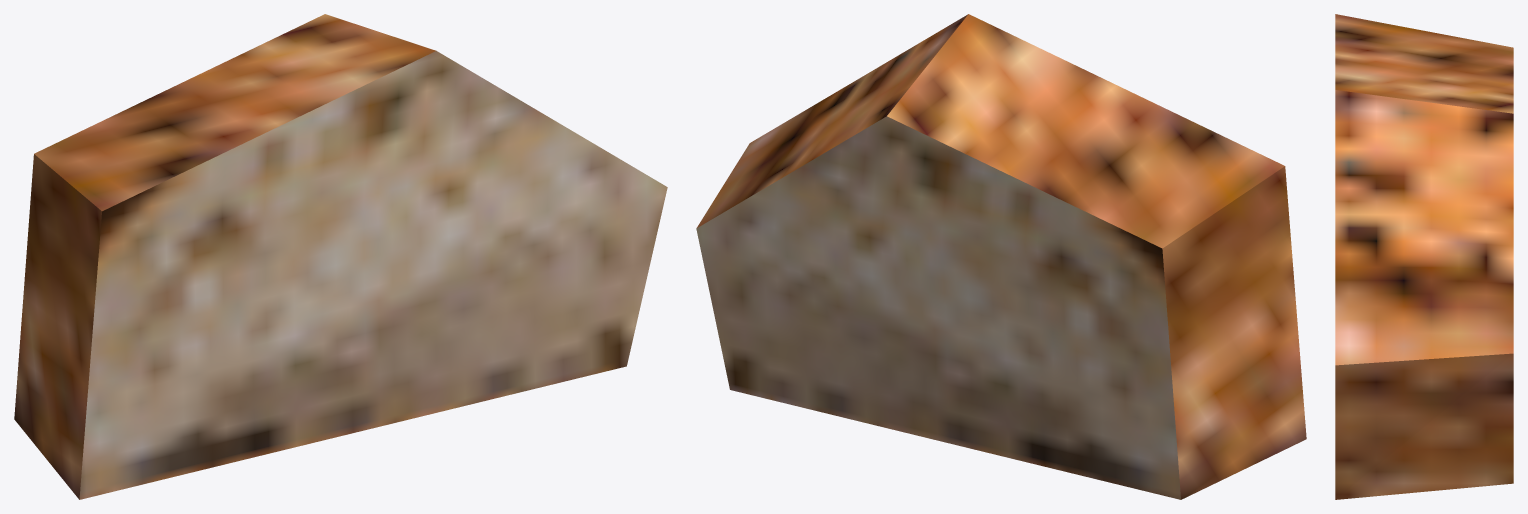
The model's file is Bread01d.obj.
3 renders of one model, left to right at view 1: azimuth 30°, elevation 25°; view 2: azimuth 150°, elevation 25°; view 3: azimuth 270°, elevation 25°, orthographic. The views are drawn at different scales.
Visible parts, largest first — view 1: Bread01e; view 2: Bread01e; view 3: Bread01e.
Boxes of the visible parts, x1,y1,x2,y2 form: Bread01e: (14,14,667,499); Bread01e: (696,14,1306,499); Bread01e: (1335,14,1513,499).
Bounding box in the file's own units: 0.1328 × 0.0781 × 0.0387.
